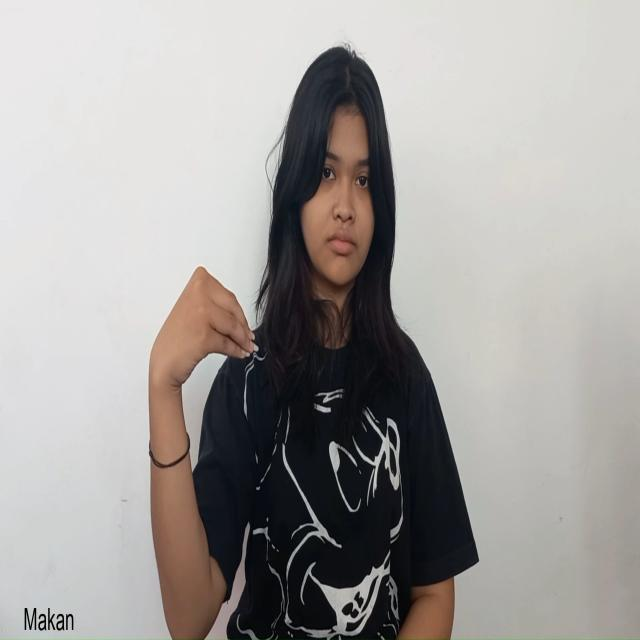Makan -BISINDO-: (147, 262, 259, 424)
